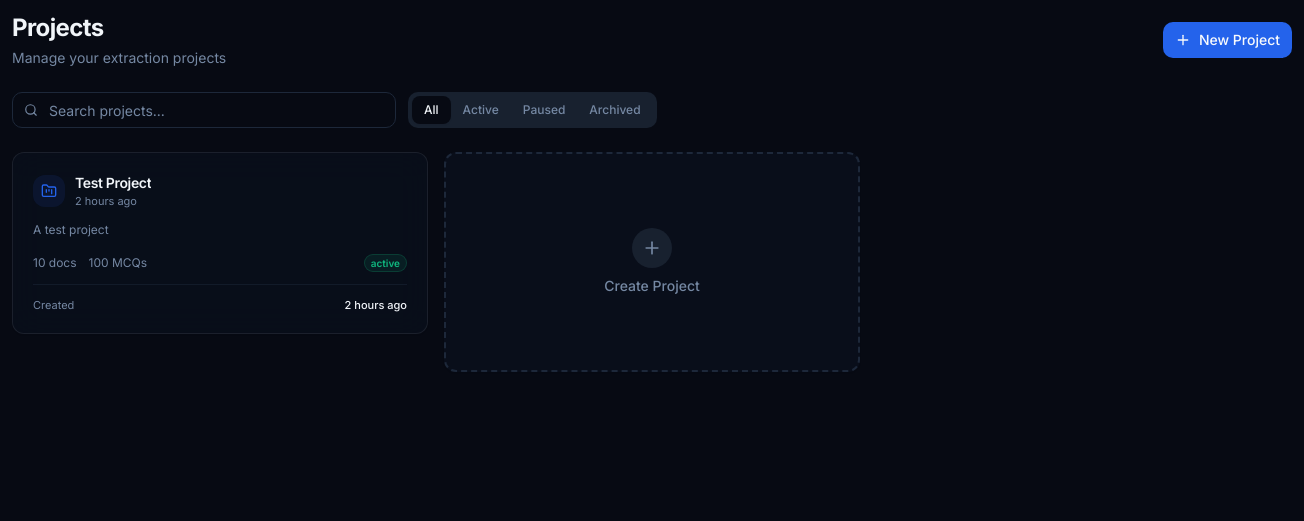
it: Projects › filters projects by status tab
Expected: the heading "Test Project" is shown, [75, 173, 151, 193]
Step 1. Click the tab "Archived" → point(615, 110), box [577, 96, 653, 124]
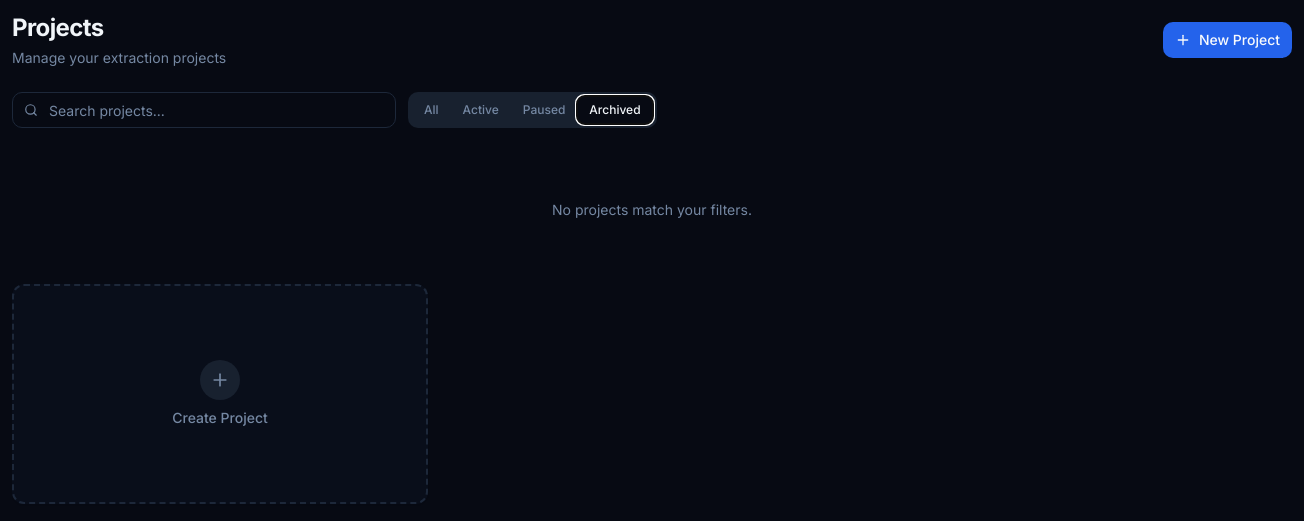
Result: the text "No projects match your filters." is shown at [552, 201, 752, 218]
